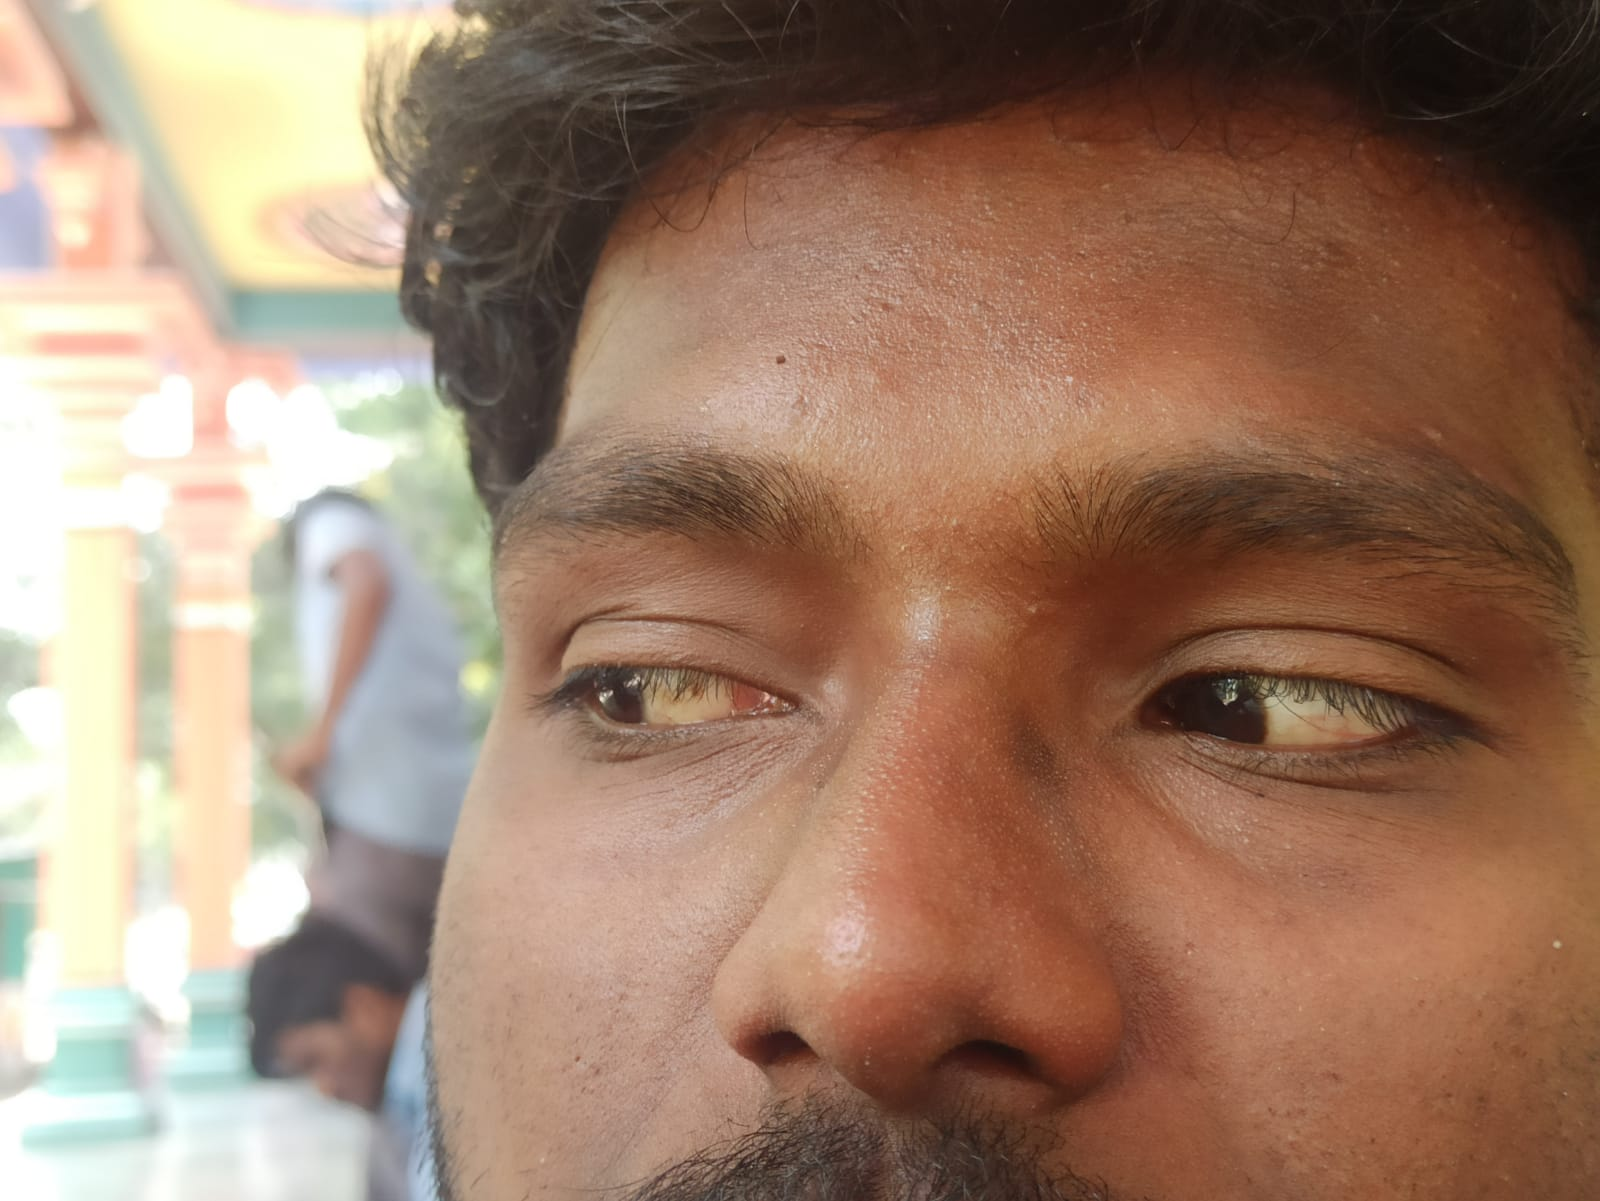EYE RIGHT: (1025, 413, 1579, 810), (372, 406, 912, 801)
